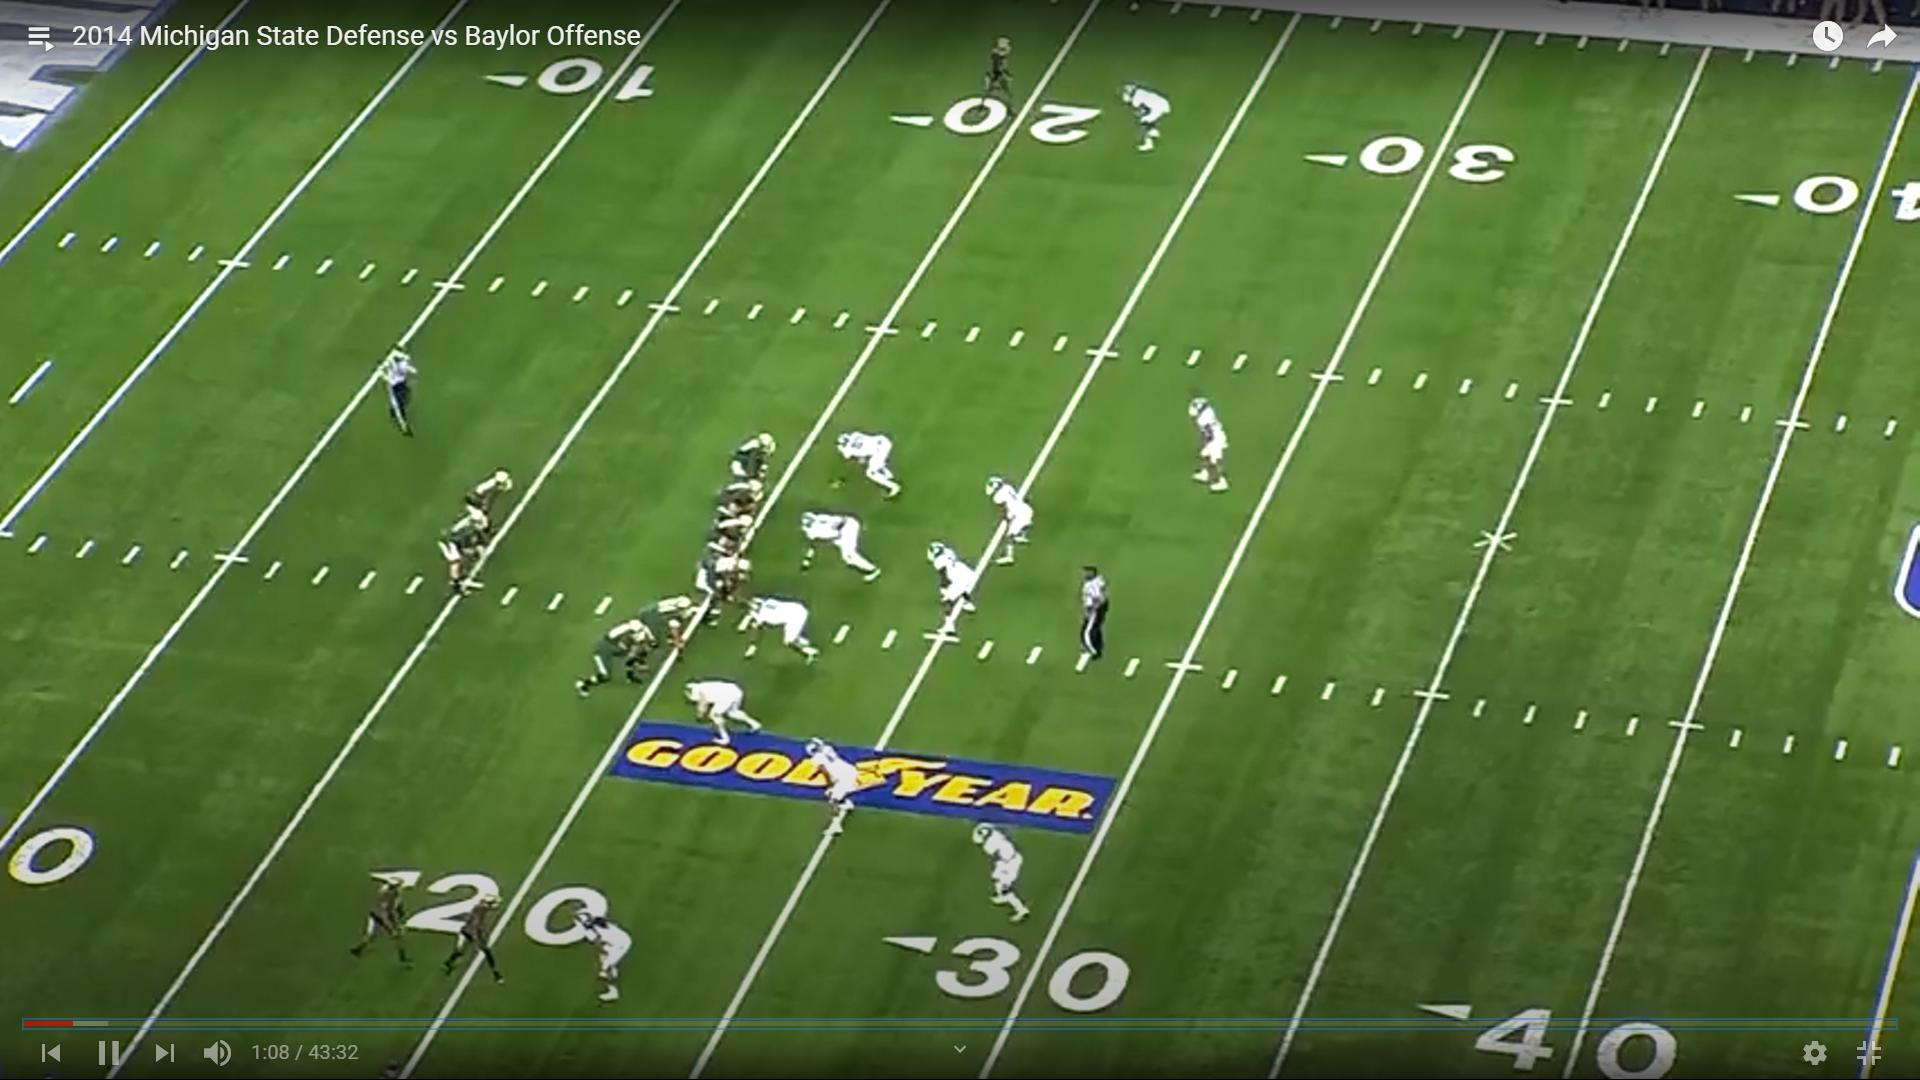player: (345, 869, 418, 981), (576, 609, 660, 698), (796, 508, 882, 586), (444, 885, 507, 986), (970, 820, 1029, 927), (739, 591, 821, 666), (928, 539, 983, 643), (687, 676, 770, 744), (810, 733, 863, 837), (693, 551, 760, 631), (438, 506, 492, 602), (586, 907, 639, 1004), (837, 430, 906, 503), (984, 471, 1034, 568), (468, 466, 519, 556), (638, 588, 700, 658), (1186, 394, 1228, 496), (1124, 81, 1174, 156), (713, 474, 771, 534), (720, 429, 779, 486), (703, 512, 763, 565), (980, 33, 1015, 104)
ref: (1072, 560, 1112, 669), (384, 347, 423, 442)
